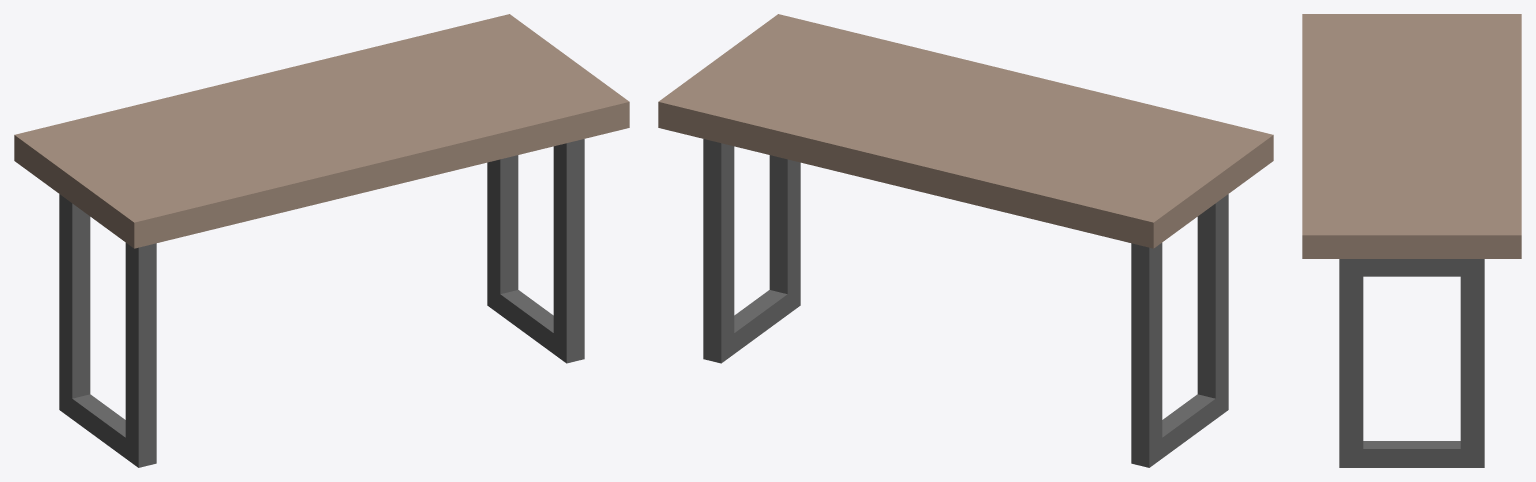
Rendered from HighTable.fbx.
The picture shows the model from 3 angles, left to right: view 1: azimuth 30°, elevation 25°; view 2: azimuth 150°, elevation 25°; view 3: azimuth 270°, elevation 25°; orthographic projection. The views are drawn at different scales.
Visible parts, largest first — view 1: polySurface935; view 2: polySurface935; view 3: polySurface935.
Part boxes in pixels (bbox=[...]): polySurface935: bbox=[14, 14, 629, 467]; polySurface935: bbox=[658, 14, 1273, 467]; polySurface935: bbox=[1302, 14, 1521, 467].
Bounding box in the file's own units: 238 × 122 × 100.
